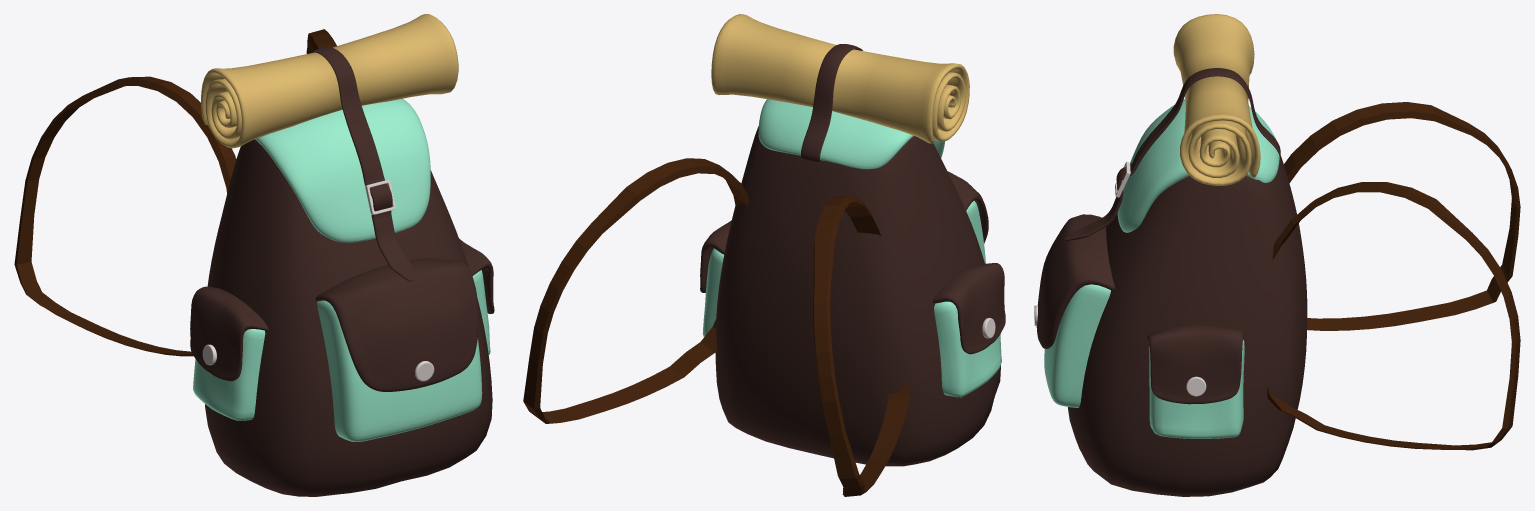
The model's file is Backpack.fbx.
The picture shows the model from 3 angles, left to right: view 1: azimuth 30°, elevation 25°; view 2: azimuth 150°, elevation 25°; view 3: azimuth 270°, elevation 25°; orthographic projection. The views are drawn at different scales.
Parts seen in each view (by area): view 1: Cube.001; view 2: Cube.001; view 3: Cube.001.
Part boxes in pixels (bbox=[...]): Cube.001: bbox=[14, 14, 494, 496]; Cube.001: bbox=[523, 14, 1005, 496]; Cube.001: bbox=[1034, 14, 1520, 496].
Bounding box in the file's own units: 430 × 502 × 556.
